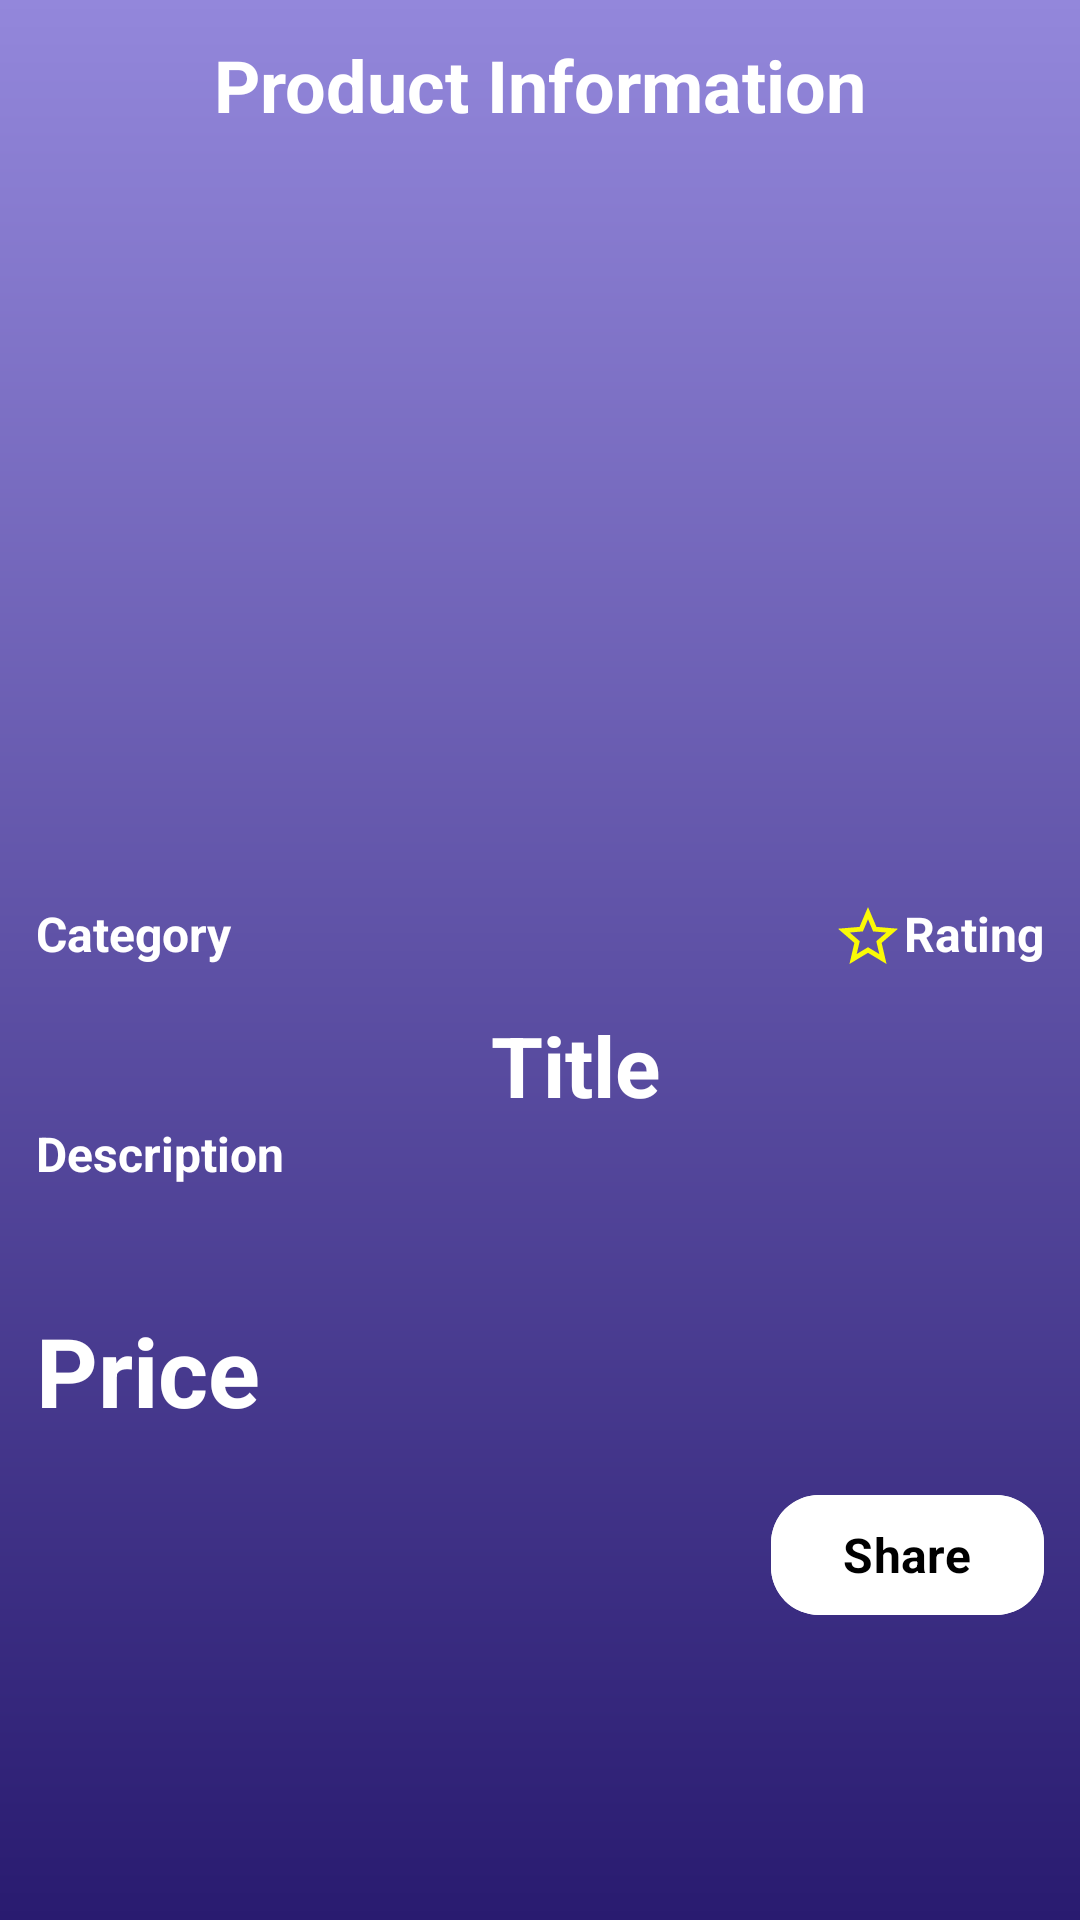

Locate icon controls on the screen. Image size 1080×1920, boxes as (x1, y1, x2, y2).
star: (838, 907, 898, 964)
